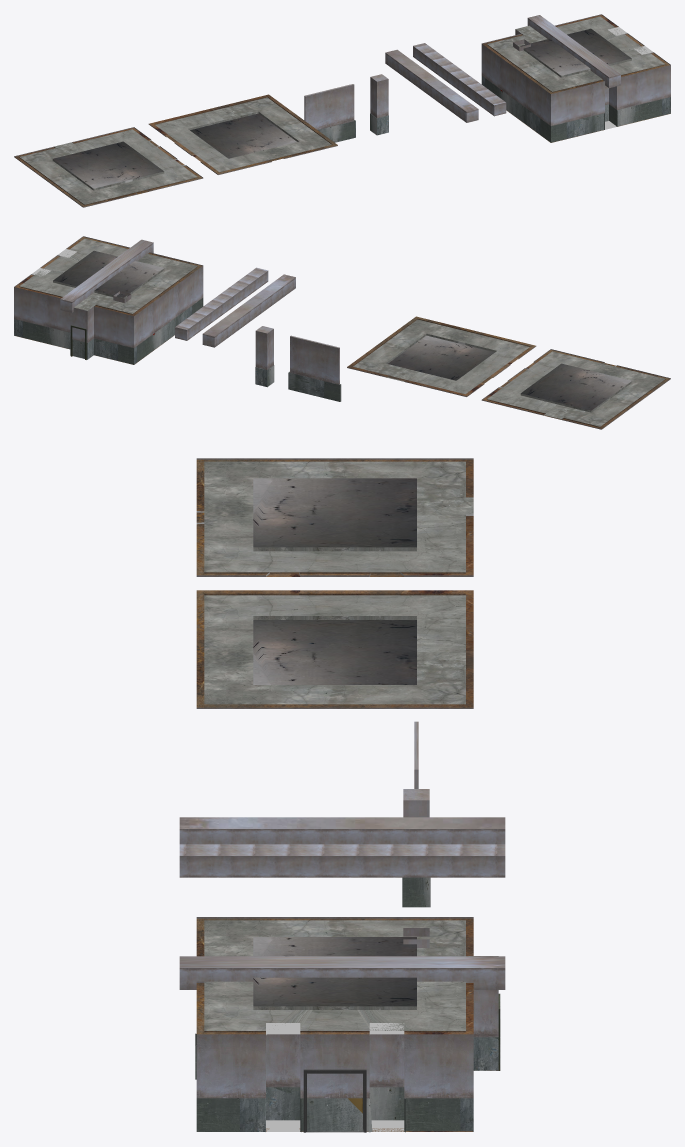
Rendered from reStyleoFFICE extra.fbx.
The picture shows the model from 3 angles, top to bottom: view 1: azimuth 30°, elevation 25°; view 2: azimuth 150°, elevation 25°; view 3: azimuth 270°, elevation 25°; orthographic projection. The views are drawn at different scales.
Parts seen in each view (by area): view 1: Plane, Plane.009, Plane.008, Plane.007, Plane.005, Plane.006, Plane.003, Plane.004; view 2: Plane, Plane.008, Plane.009, Plane.007, Plane.005, Plane.006, Plane.003, Plane.004; view 3: Plane, Plane.008, Plane.009, Plane.006, Plane.005, Plane.003, Plane.004.
Boxes of the visible parts, x1,y1,x2,y2 form: Plane: (481, 14, 670, 142); Plane.009: (14, 127, 203, 207); Plane.008: (148, 94, 337, 174); Plane.007: (304, 84, 355, 142); Plane.005: (385, 49, 478, 122); Plane.006: (413, 43, 506, 116); Plane.003: (527, 15, 620, 88); Plane.004: (370, 74, 388, 135); Plane: (14, 236, 203, 364); Plane.008: (347, 316, 536, 396); Plane.009: (481, 349, 670, 429); Plane.007: (288, 335, 341, 401); Plane.005: (202, 274, 295, 347); Plane.006: (175, 267, 268, 340); Plane.003: (60, 239, 153, 312); Plane.004: (255, 326, 274, 387); Plane: (195, 917, 498, 1132); Plane.008: (196, 590, 473, 708); Plane.009: (196, 458, 473, 576); Plane.006: (179, 844, 505, 877); Plane.005: (179, 817, 505, 844); Plane.003: (179, 956, 505, 989); Plane.004: (402, 789, 430, 907).
Bounding box in the file's own units: 15228 × 1384 × 3647.
